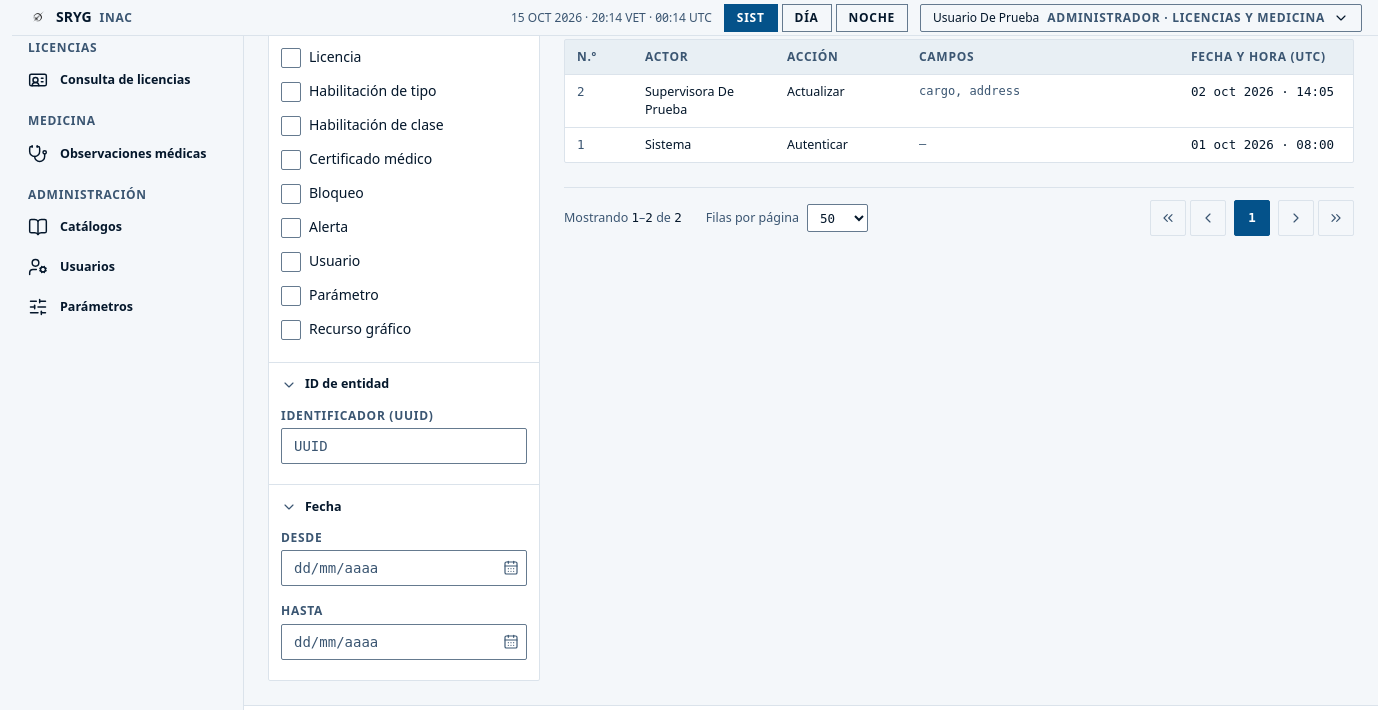
Test: /auditoria (REP-04) › does not query with an incomplete entity id or an inverted range, and says why
(page scrolled)
Expected: the table named "Registro de auditoría" is shown, [565,40,1353,162]
In the field labelled "Identificador (UUID)": (404, 446) [281,428,527,464], type "7c9e"
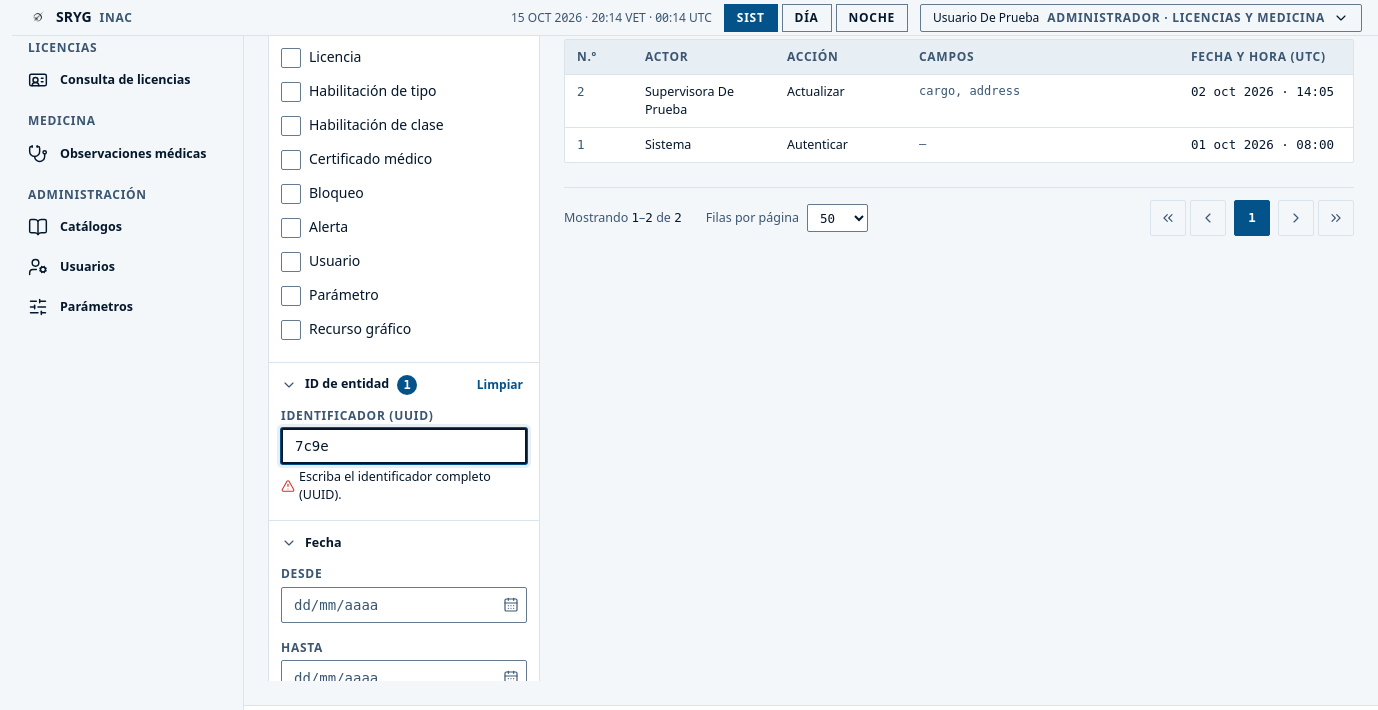
Result: the text "Escriba el identificador completo (UUID)." is shown at [281,468,527,504]
Clear the field labelled "Identificador (UUID)": (404, 446) [281,428,527,464]
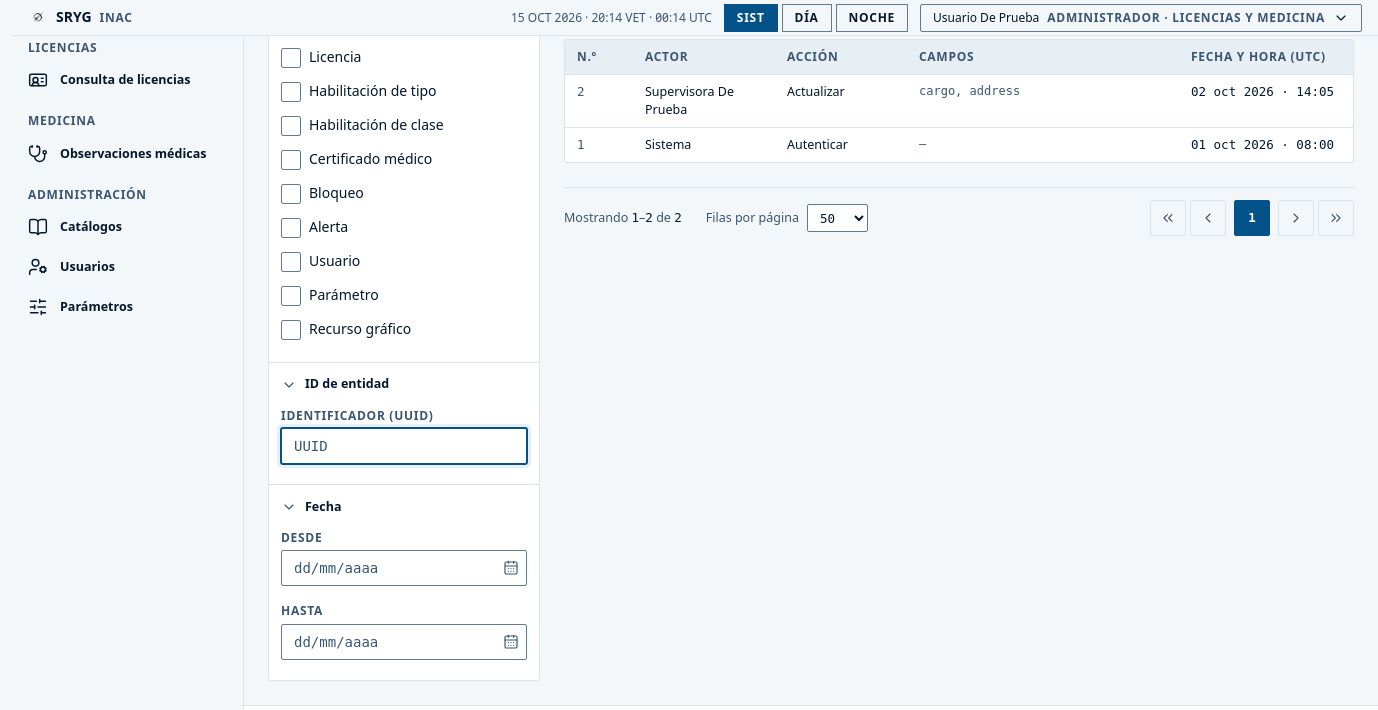
In the field labelled "Desde": (404, 568) [281,550,527,586], type "14102026"
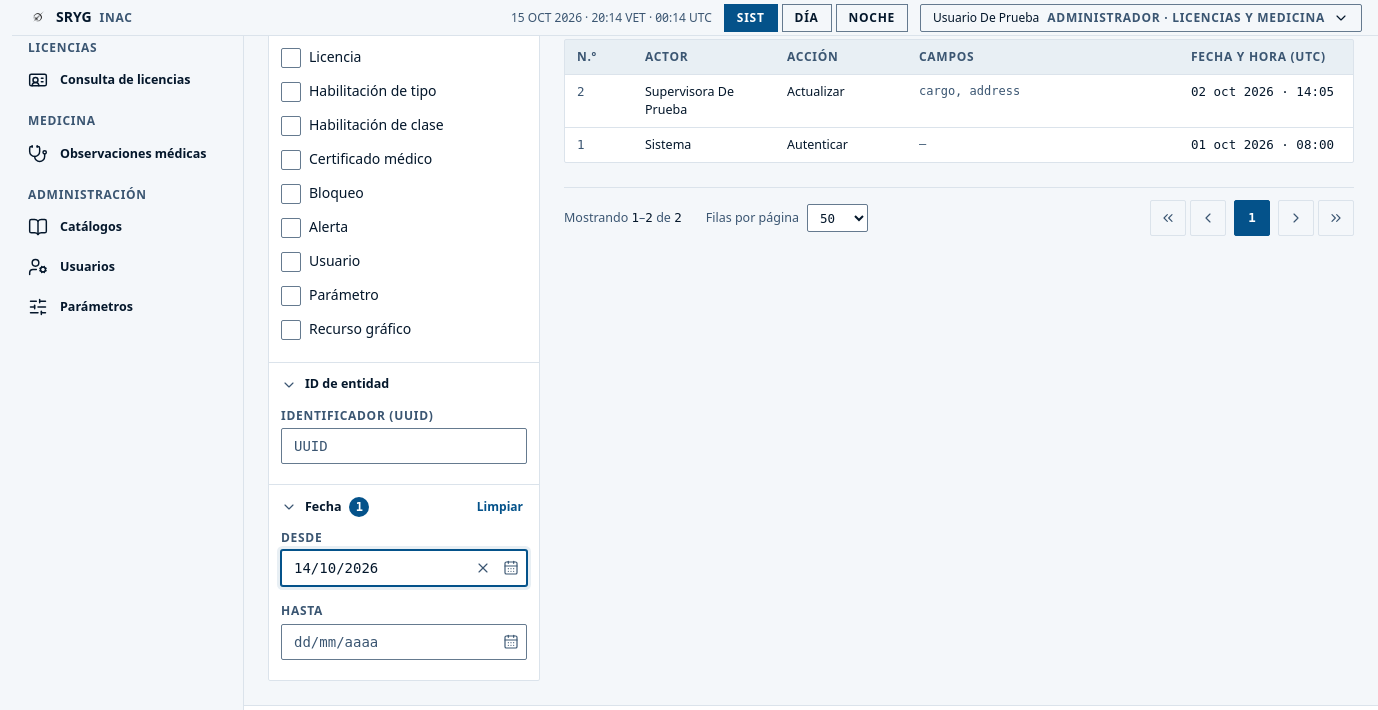
In the field labelled "Hasta": (404, 642) [281,624,527,660], type "01102026"
(page scrolled)
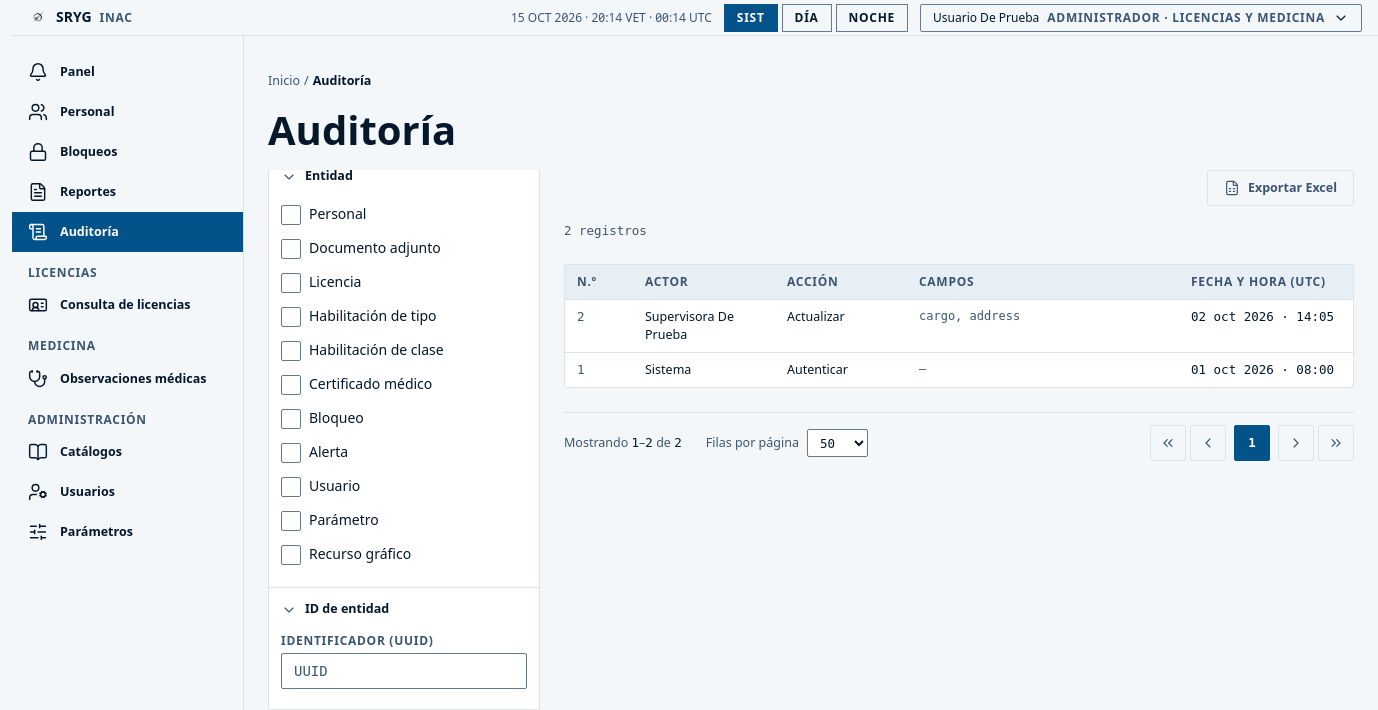
Result: the button "Exportar Excel" is disabled at [1207,170,1354,206]
